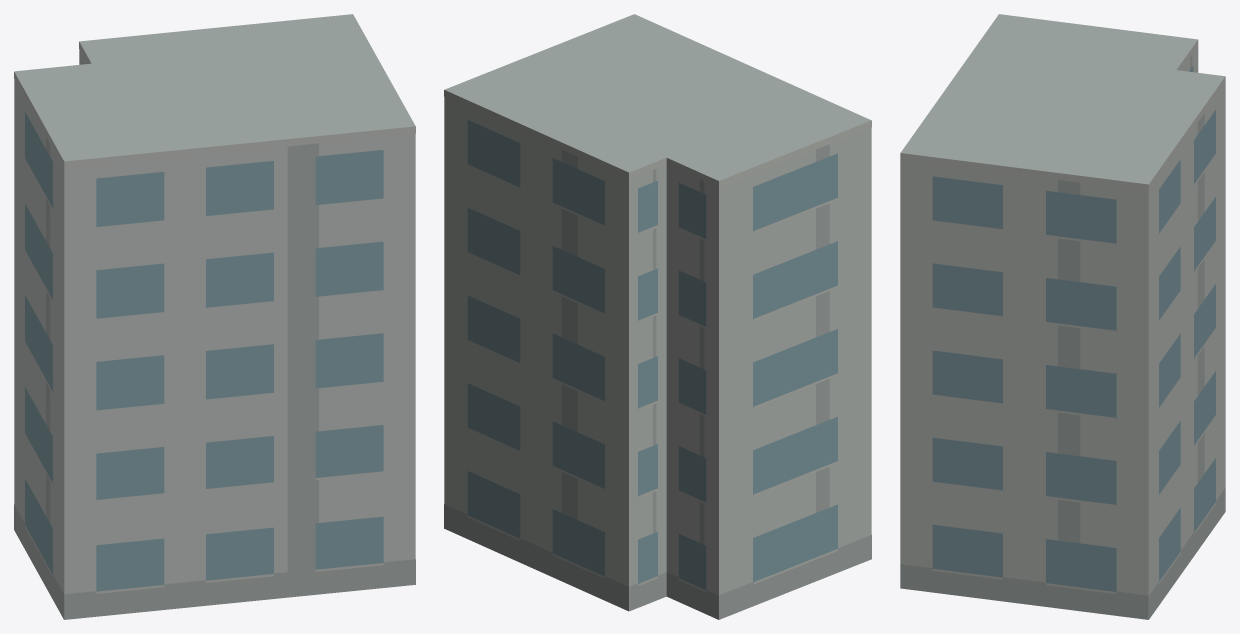
Rendered from residential-9badcfa8-4a31-4966-b7c2-68b70452ee7e.glb.
3 renders of one model, left to right at view 1: azimuth 30°, elevation 25°; view 2: azimuth 150°, elevation 25°; view 3: azimuth 270°, elevation 25°, orthographic. The views are drawn at different scales.
Parts seen in each view (by area): view 1: residential-9badcfa8-4a31-4966-b7c2-68b70452ee7e.tmp; view 2: residential-9badcfa8-4a31-4966-b7c2-68b70452ee7e.tmp; view 3: residential-9badcfa8-4a31-4966-b7c2-68b70452ee7e.tmp.
Part boxes in pixels (<box>): residential-9badcfa8-4a31-4966-b7c2-68b70452ee7e.tmp: <box>14,14,415,619</box>; residential-9badcfa8-4a31-4966-b7c2-68b70452ee7e.tmp: <box>444,14,871,619</box>; residential-9badcfa8-4a31-4966-b7c2-68b70452ee7e.tmp: <box>900,14,1225,619</box>.
Bounding box in the file's own units: 12.81 × 15.25 × 10.33.
